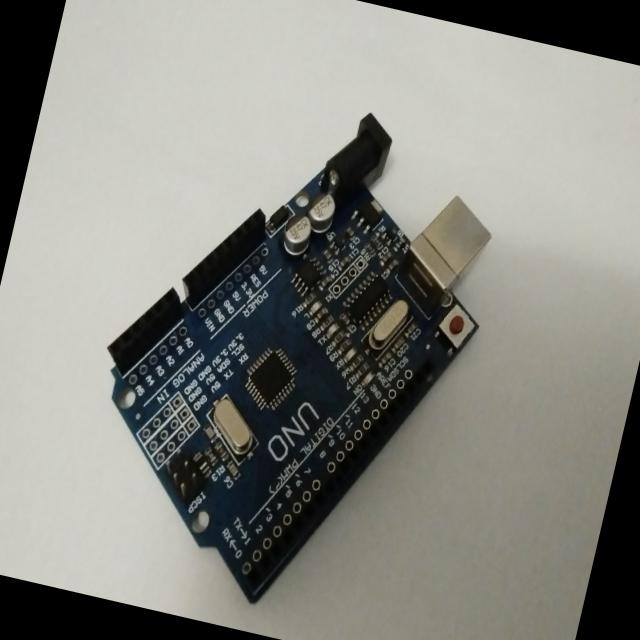arduino: (46, 59, 521, 640)
